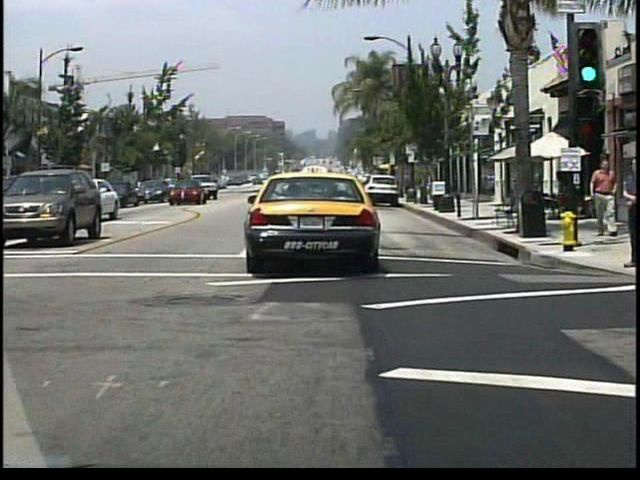person: (588, 159, 617, 237)
